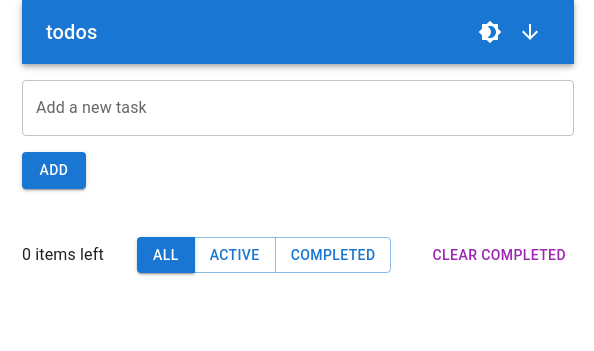
Form Component › should add a new todo
The width and height of the screenshot is (594, 351).
In the field labelled "Add a new task": (298, 108) [22,80,574,136], type "New Todo"
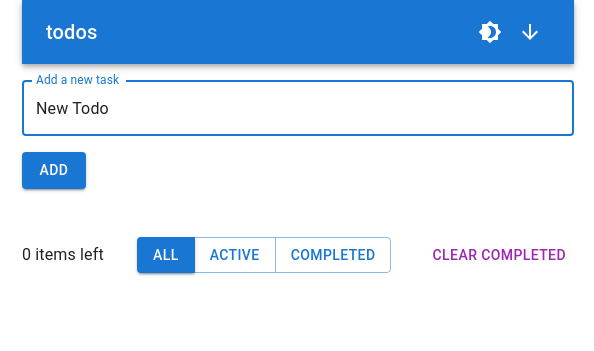
Click the button with test id "add-task": (54, 171) [22,152,86,189]
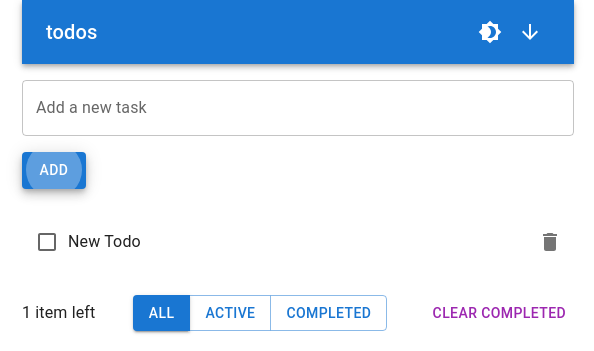
Expected: the list item "New Todo" is shown, [22,212,574,270]
